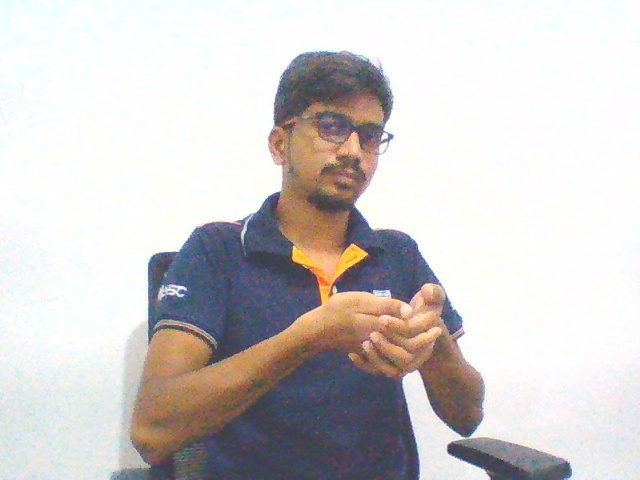mangosteen: (305, 279, 454, 383)
